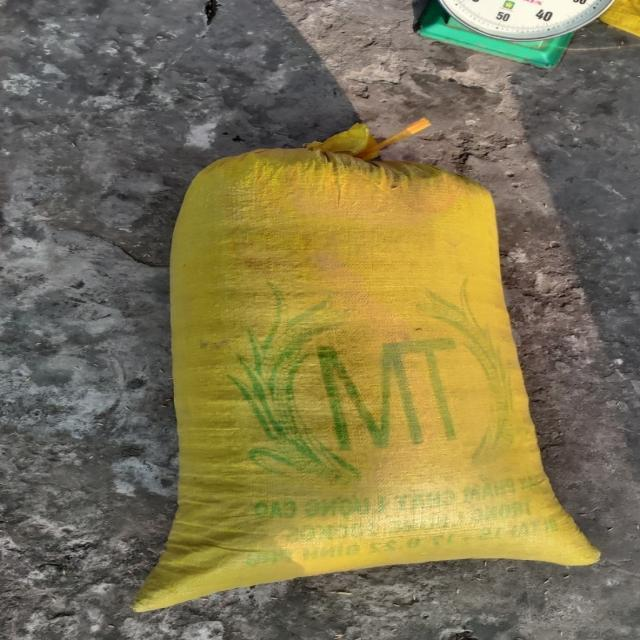gunny_bag: (133, 125, 599, 612)
